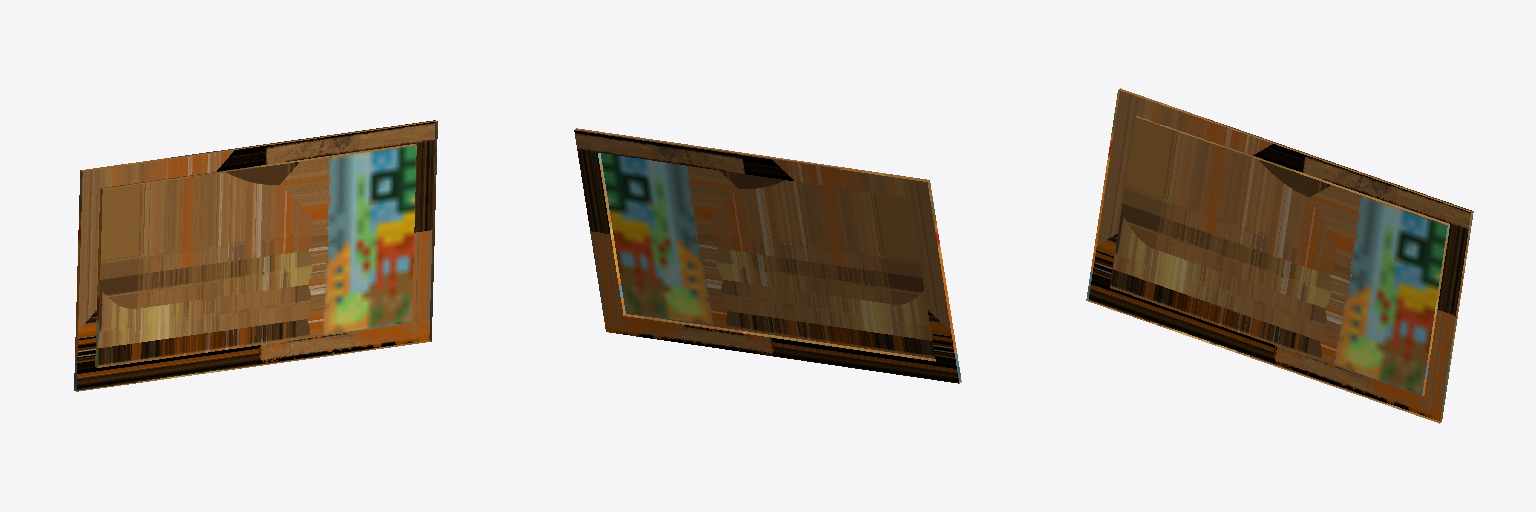
The picture shows the model from 3 angles: view 1: azimuth 30°, elevation 25°; view 2: azimuth 150°, elevation 25°; view 3: azimuth 330°, elevation 25°; orthographic projection.
Parts seen in each view (by area): view 1: Plane.001_Plane; view 2: Plane.001_Plane; view 3: Plane.001_Plane.
Boxes of the visible parts, box(x1,y1,x2,y2) form: Plane.001_Plane: box(74, 120, 437, 391); Plane.001_Plane: box(574, 128, 961, 383); Plane.001_Plane: box(1086, 88, 1473, 423).
Bounding box in the file's own units: 0.8362 × 0.5185 × 0.0632.
Materials: 1 (1 with a texture image).